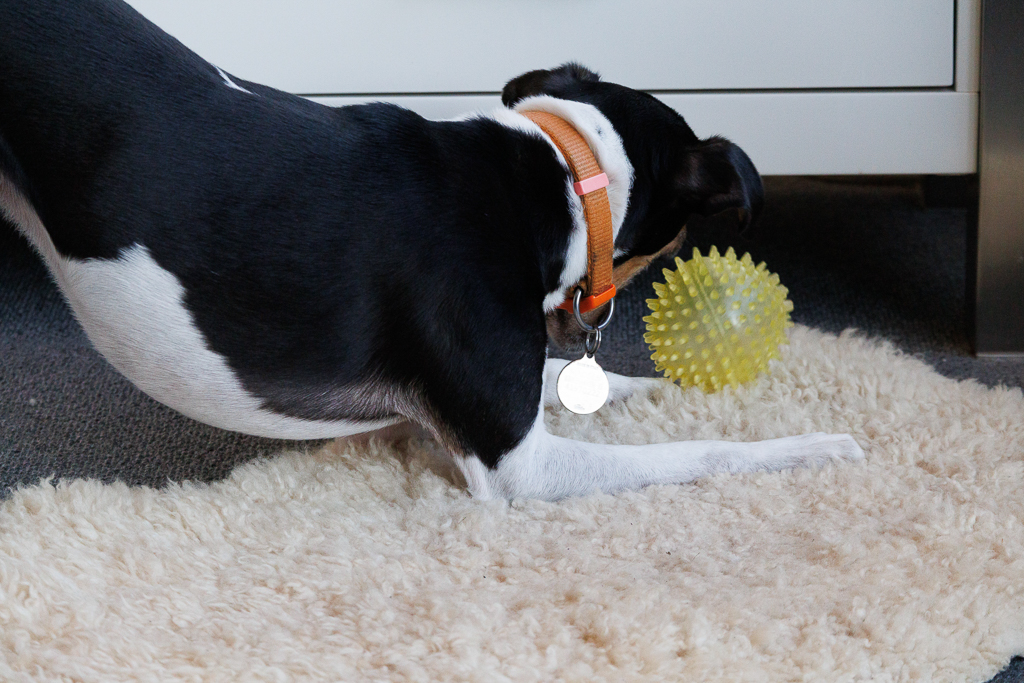Dog: (0, 0, 877, 522)
